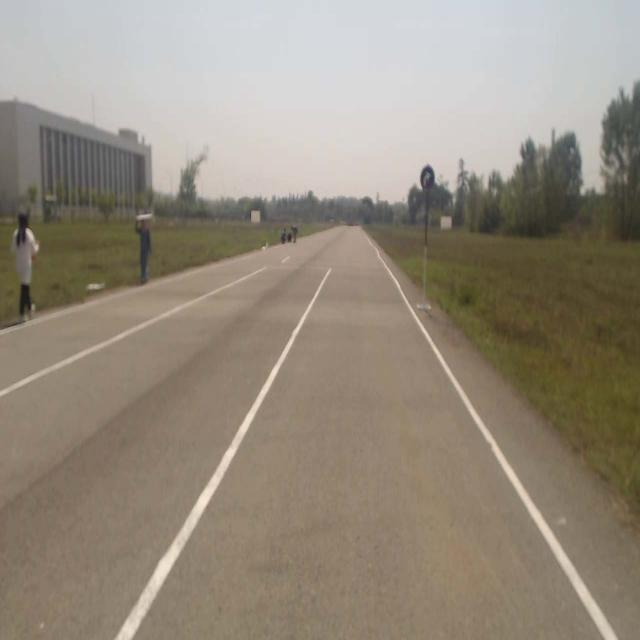sag: (420, 166, 435, 190)
